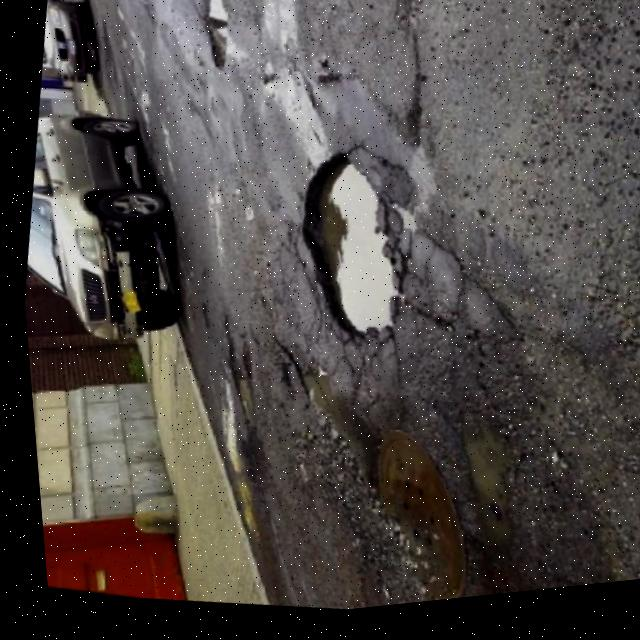Pothole: (248, 16, 504, 382), (424, 363, 529, 555), (210, 297, 280, 426), (184, 378, 249, 492), (169, 0, 243, 79), (211, 454, 262, 552)
